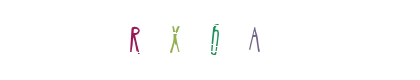6: (170, 0, 250, 80)
A: (170, 0, 250, 80)
R: (94, 0, 174, 80)
X: (156, 0, 236, 80)
